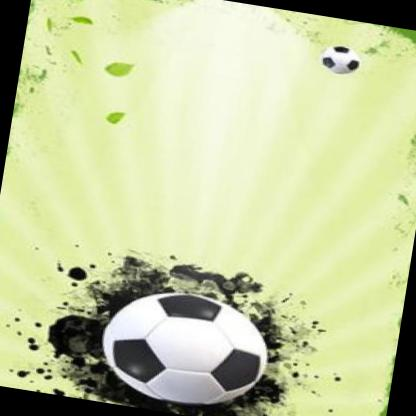ball: (88, 276, 279, 416), (315, 39, 367, 80)
